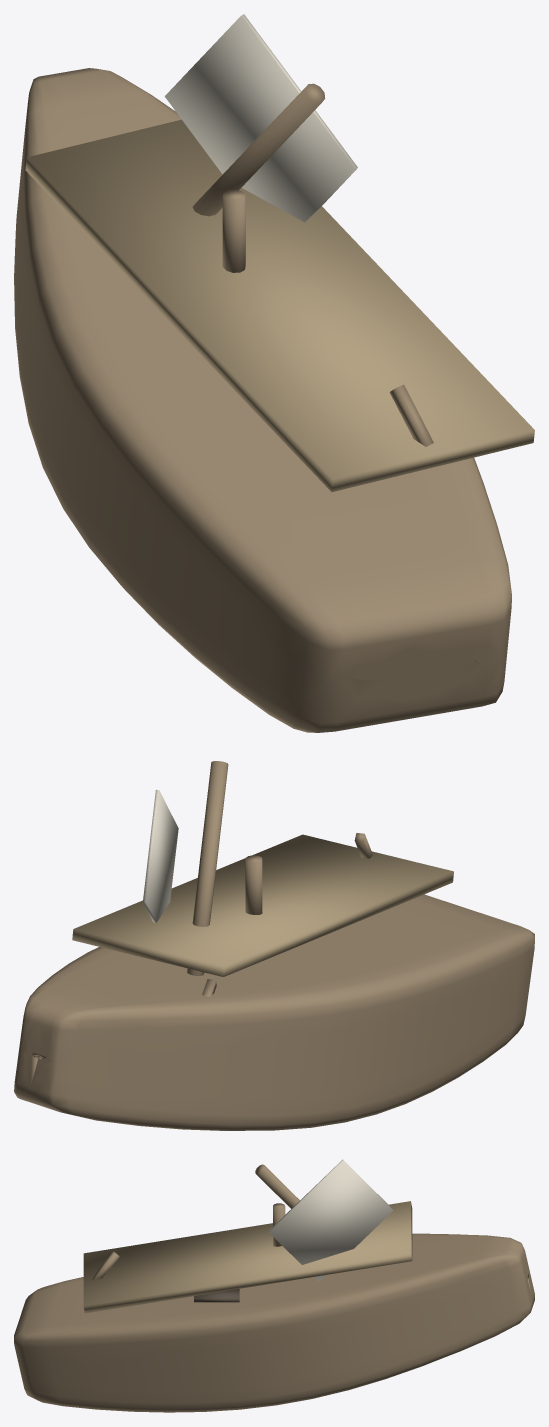
Rendered from ship_wreck.glb.
The picture shows the model from 3 angles, top to bottom: view 1: azimuth 30°, elevation 25°; view 2: azimuth 150°, elevation 25°; view 3: azimuth 270°, elevation 25°; orthographic projection. The views are drawn at different scales.
Visible parts, largest first — view 1: ship_wreck; view 2: ship_wreck; view 3: ship_wreck.
Boxes of the visible parts, <box> form: ship_wreck: <box>14,14,534,732</box>; ship_wreck: <box>14,761,534,1130</box>; ship_wreck: <box>14,1159,534,1412</box>.
Size of the model in its own units: 1.93 by 2.67 by 5.02.
